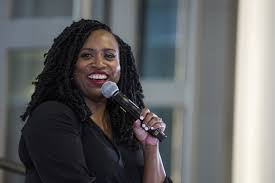black_female: (39, 15, 141, 114)
